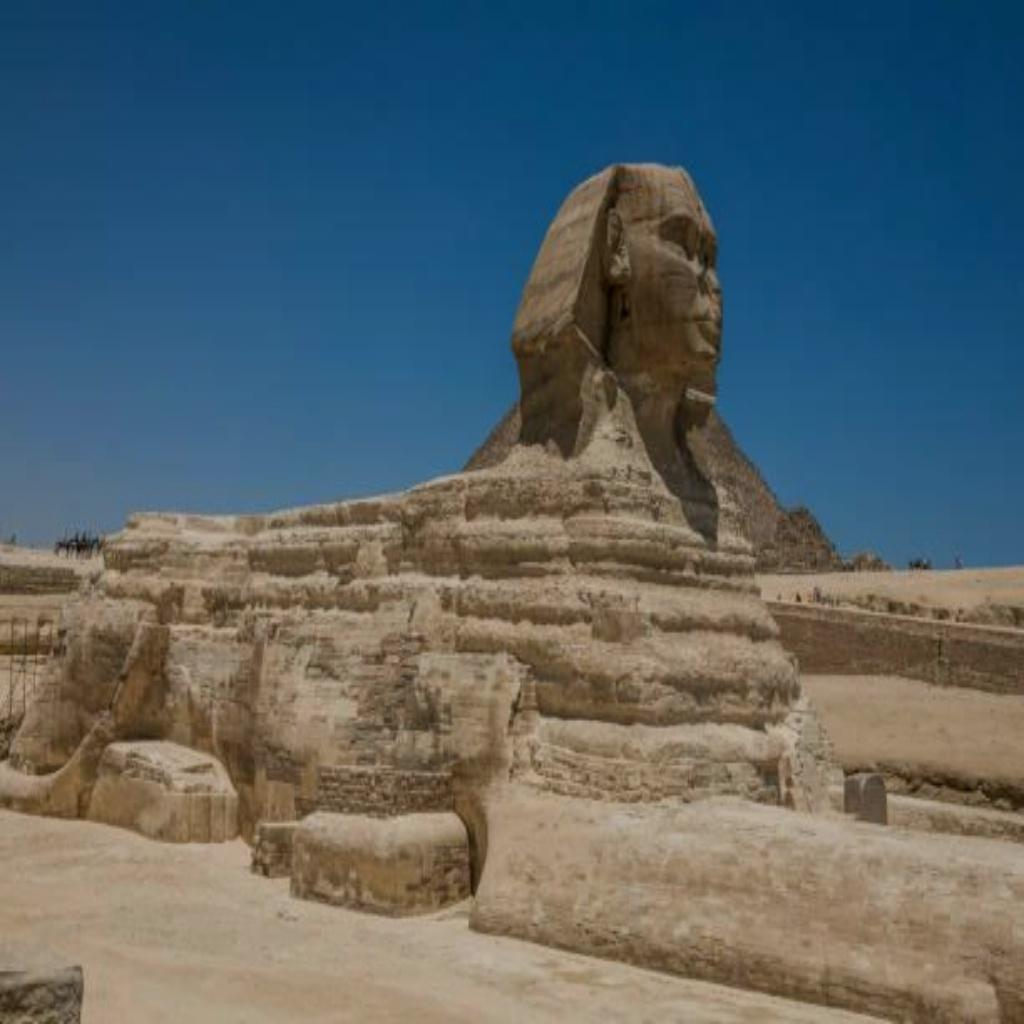Sphinx: (462, 158, 806, 562)
